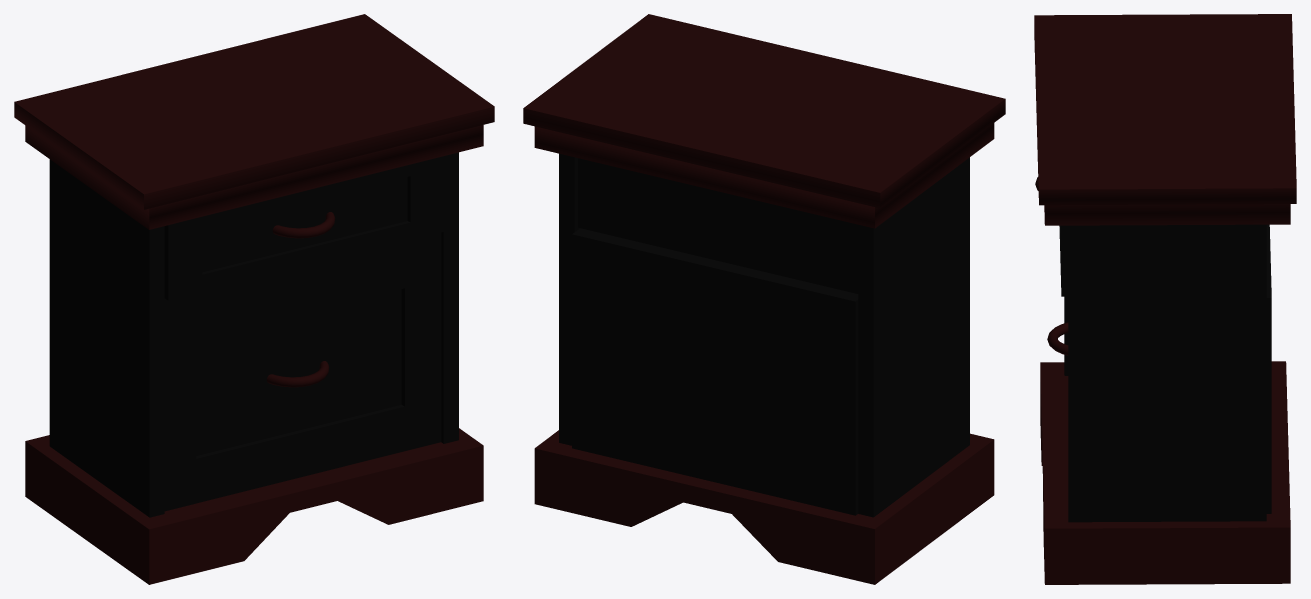
The model's file is mesinhaCabeceira 1.FBX.
3 renders of one model, left to right at view 1: azimuth 30°, elevation 25°; view 2: azimuth 150°, elevation 25°; view 3: azimuth 270°, elevation 25°, orthographic.
Visible parts, largest first — view 1: Box017, Box019, Box015, Box018, Box020, Box016, Torus001, Torus002; view 2: Box019, Box017, Box015, Box018, Box020, Box016; view 3: Box016, Box017, Box018, Box019, Box020, Torus001.
Boxes of the visible parts, bbox=[...] form: Box017: bbox=[14, 14, 494, 229]; Box019: bbox=[164, 232, 441, 511]; Box015: bbox=[49, 159, 164, 517]; Box018: bbox=[25, 428, 483, 584]; Box020: bbox=[164, 155, 447, 300]; Box016: bbox=[441, 152, 458, 443]; Torus001: bbox=[266, 361, 329, 387]; Torus002: bbox=[272, 212, 335, 238]; Box019: bbox=[572, 228, 858, 515]; Box017: bbox=[523, 14, 1005, 228]; Box015: bbox=[858, 157, 969, 517]; Box018: bbox=[534, 430, 994, 584]; Box020: bbox=[578, 158, 858, 293]; Box016: bbox=[559, 153, 579, 445]; Box016: bbox=[1068, 224, 1266, 522]; Box017: bbox=[1034, 14, 1296, 225]; Box018: bbox=[1040, 361, 1290, 584]; Box019: bbox=[1266, 224, 1271, 513]; Box020: bbox=[1059, 225, 1068, 296]; Torus001: bbox=[1047, 322, 1068, 355].
Bounding box in the file's own units: 32.88 × 34.87 × 20.77.
